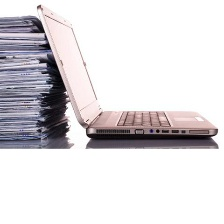book: (0, 13, 72, 150)
